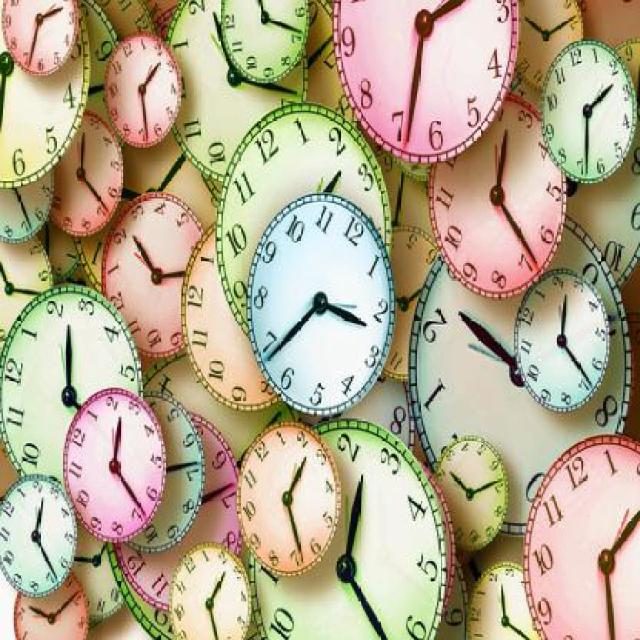clock: (332, 0, 517, 163), (250, 198, 392, 409), (68, 397, 166, 537), (243, 431, 338, 568), (547, 41, 634, 174)
